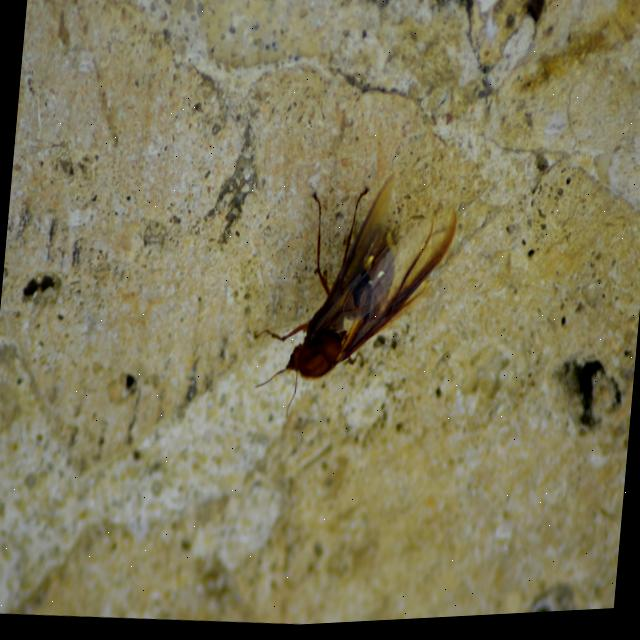Alive-Male-Alate: (245, 160, 462, 439)
